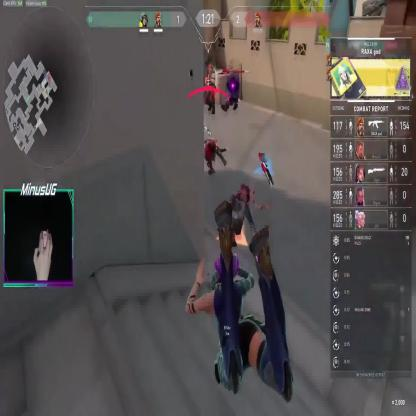enemy: (203, 62, 217, 114)
enemy_head: (208, 63, 212, 74)
